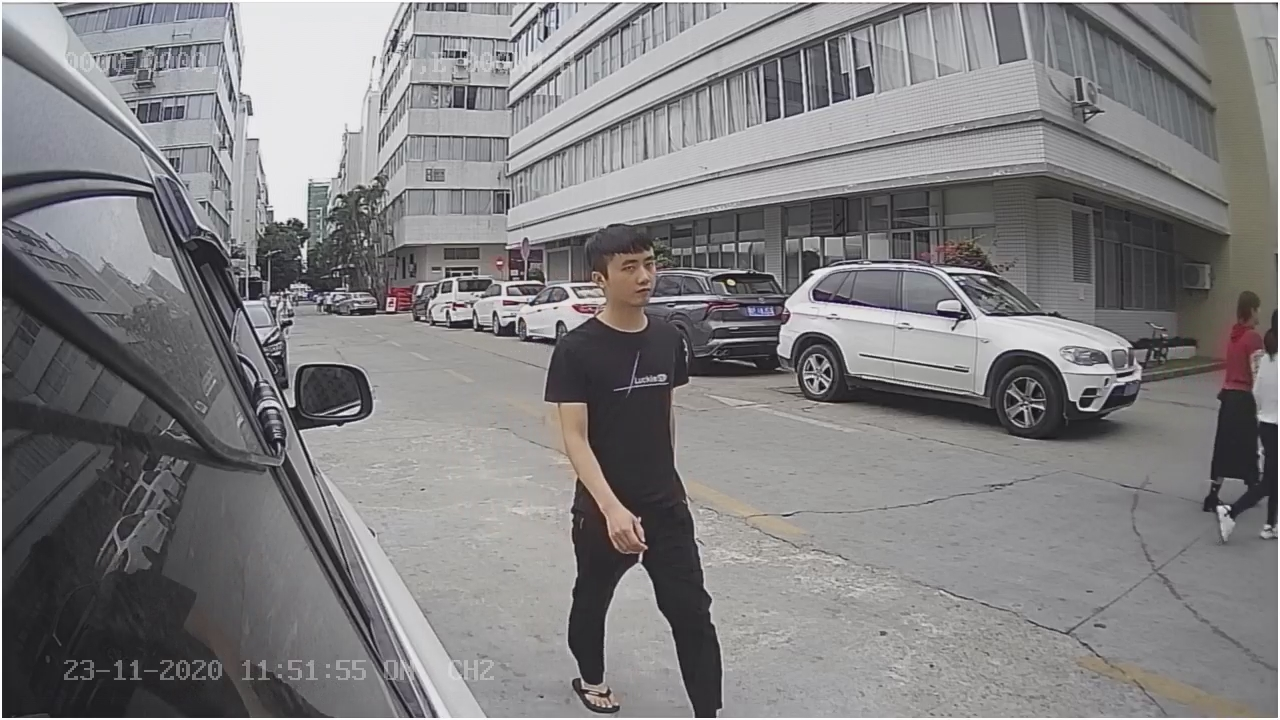person: (540, 218, 752, 576)
